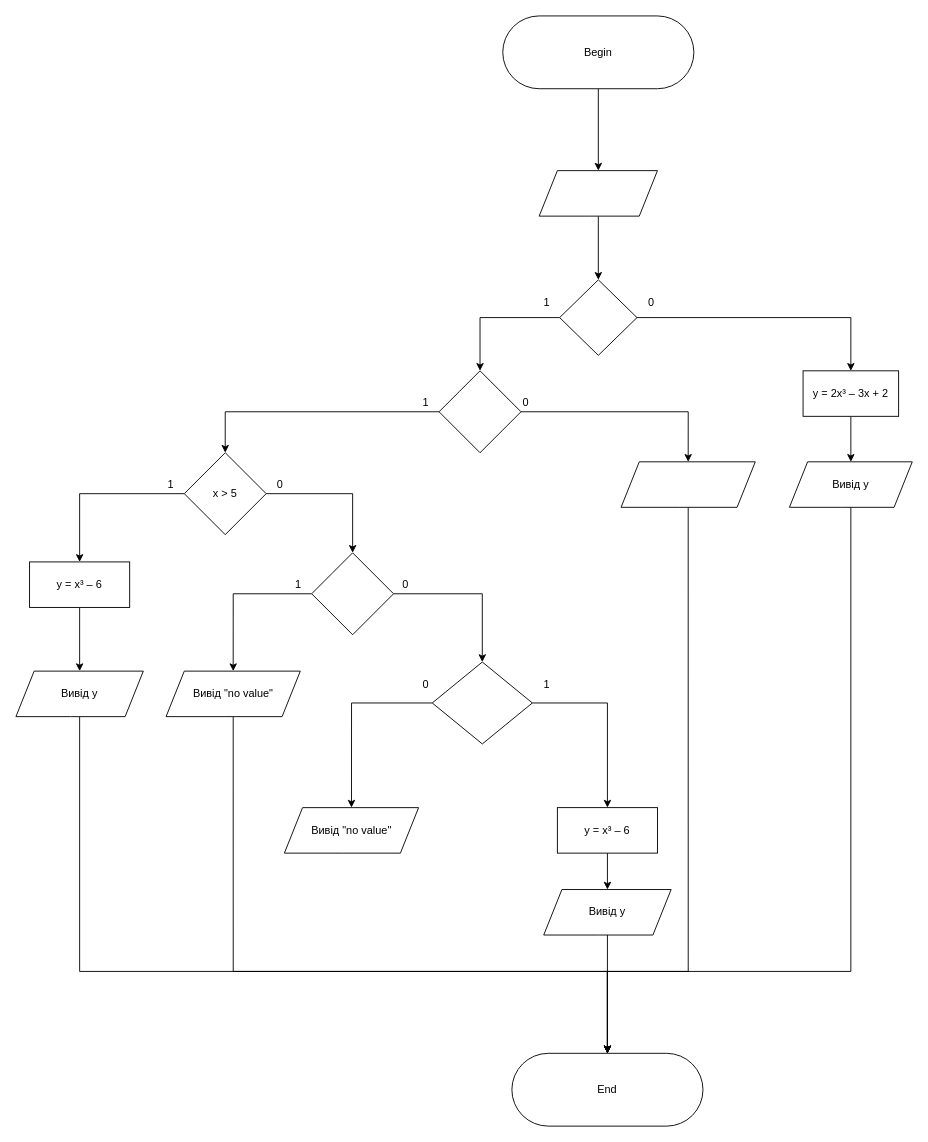
Some shapes in this 928 by 1142 pixel diagram are drawn without their labels. The shapes that lost their labels are listed below. From the top down, each one's centre as x and y in pixels, then its label:
pixel 597 193: input x
pixel 598 317: x < 25
pixel 479 411: x <= 15
pixel 687 484: Вивід "no value
pixel 352 593: x > -5
pixel 481 702: x > -10
